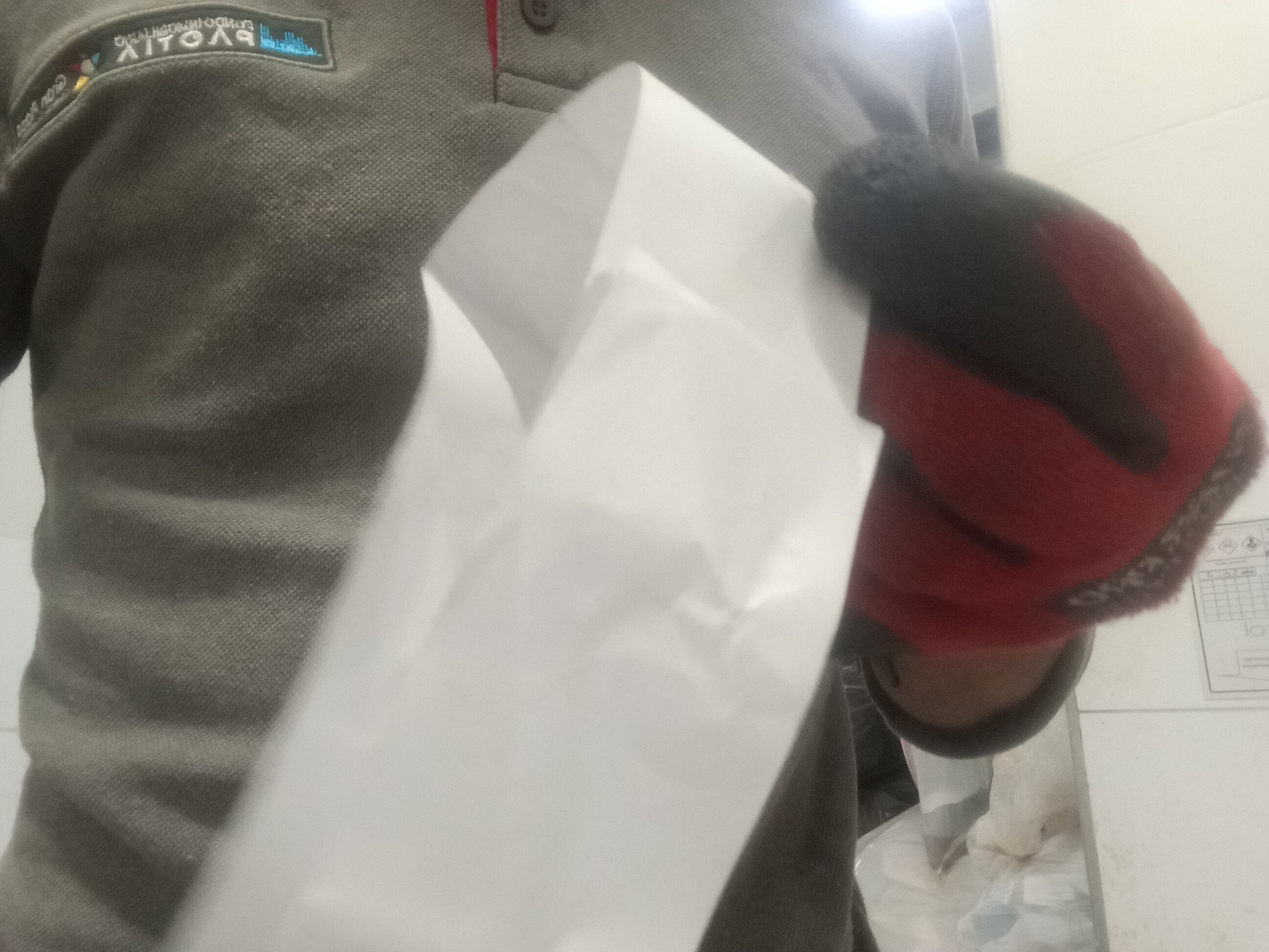Papel: (163, 61, 881, 952)
